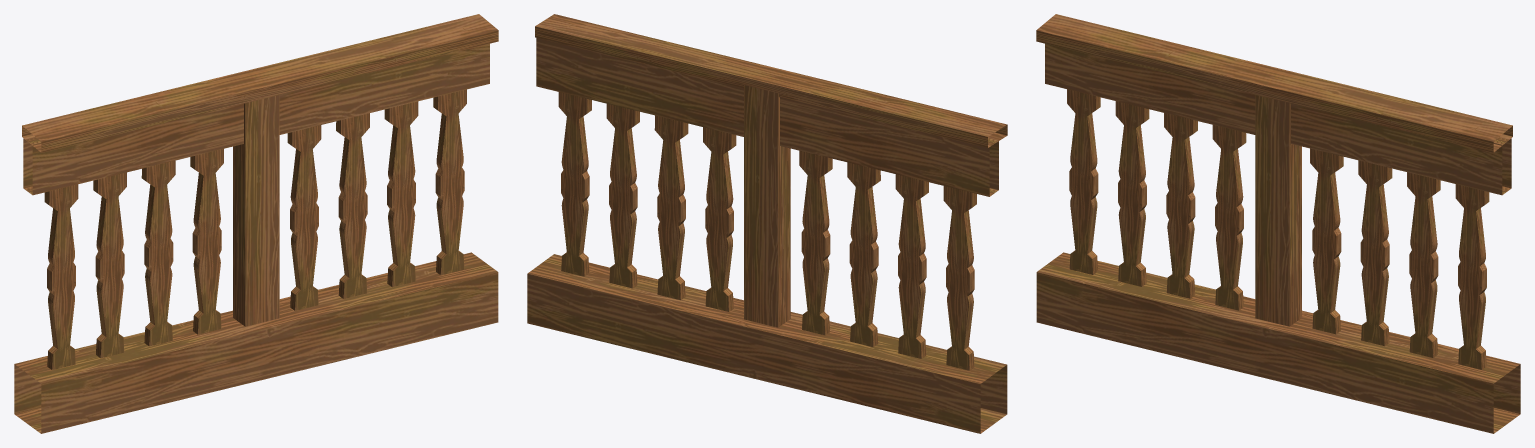
Rendered from Balcony_Simple_Straight.glb.
3 renders of one model, left to right at view 1: azimuth 30°, elevation 25°; view 2: azimuth 150°, elevation 25°; view 3: azimuth 330°, elevation 25°, orthographic.
Parts seen in each view (by area): view 1: Balcony_Simple_Straight; view 2: Balcony_Simple_Straight; view 3: Balcony_Simple_Straight.
Boxes of the visible parts, x1=… form: Balcony_Simple_Straight: x1=14, y1=14, x2=498, y2=433; Balcony_Simple_Straight: x1=527, y1=14, x2=1007, y2=433; Balcony_Simple_Straight: x1=1036, y1=14, x2=1520, y2=433.
Size of the model in its own units: 2 by 1.23 by 0.2063.
1 material, 1 textured.
